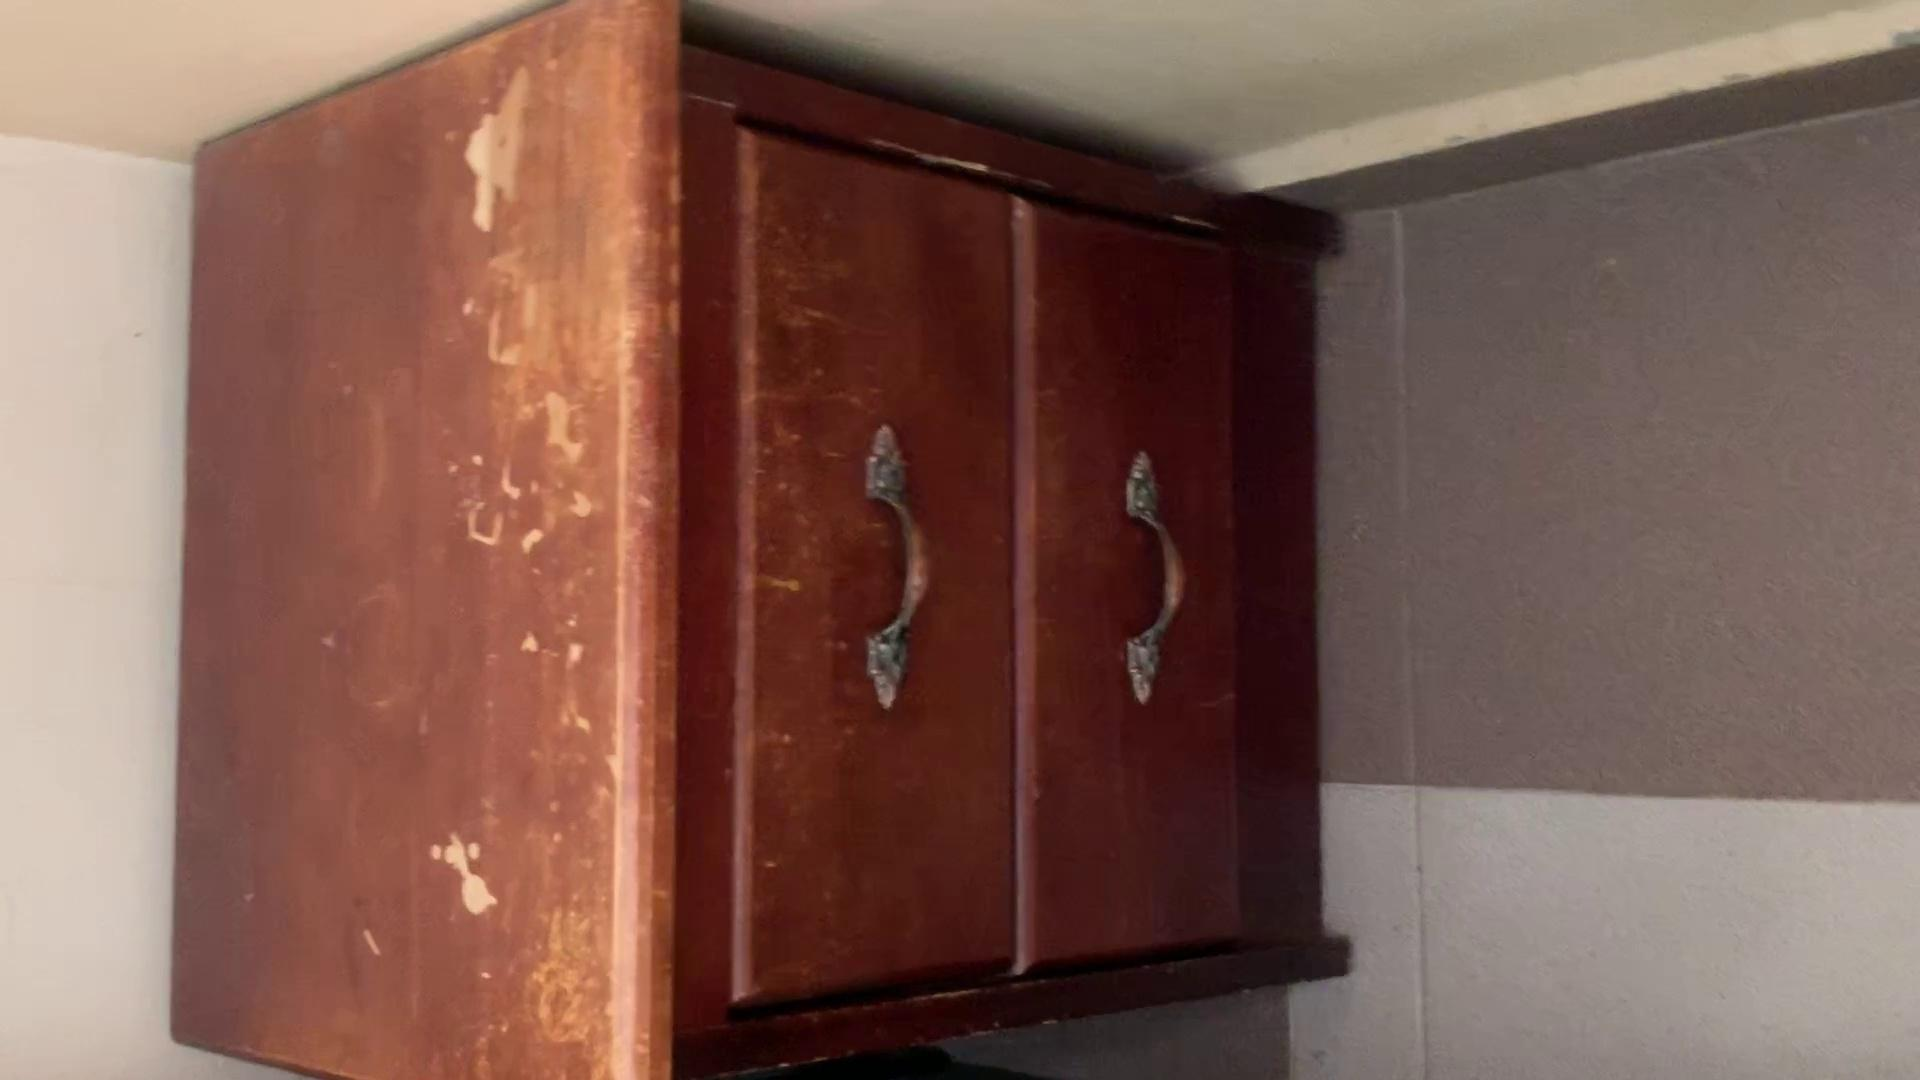cabinet_door: (741, 150, 1007, 1004), (1013, 225, 1263, 976)
handle: (843, 419, 943, 719), (1098, 447, 1188, 708)
